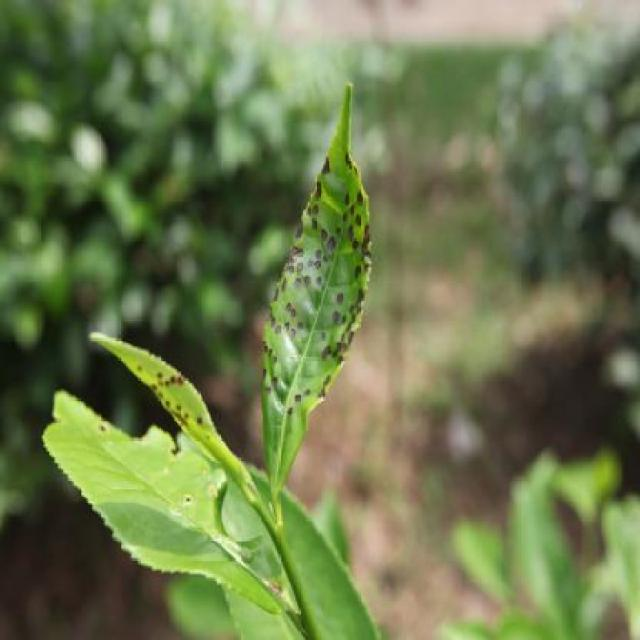Tea Mosquito bug infested leaf: (254, 95, 372, 463), (143, 343, 252, 442)
